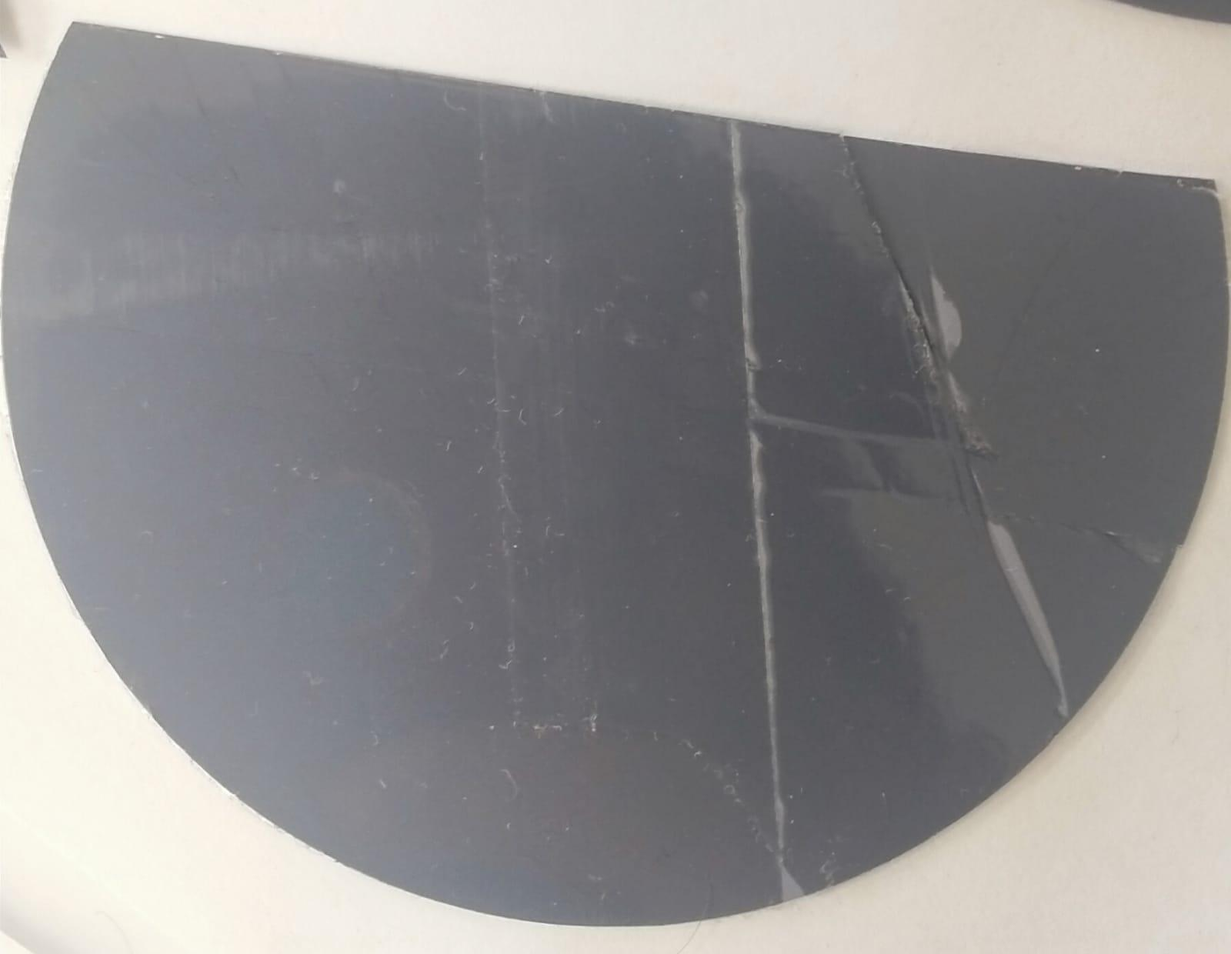crack: (830, 119, 1079, 731), (715, 121, 809, 911)
